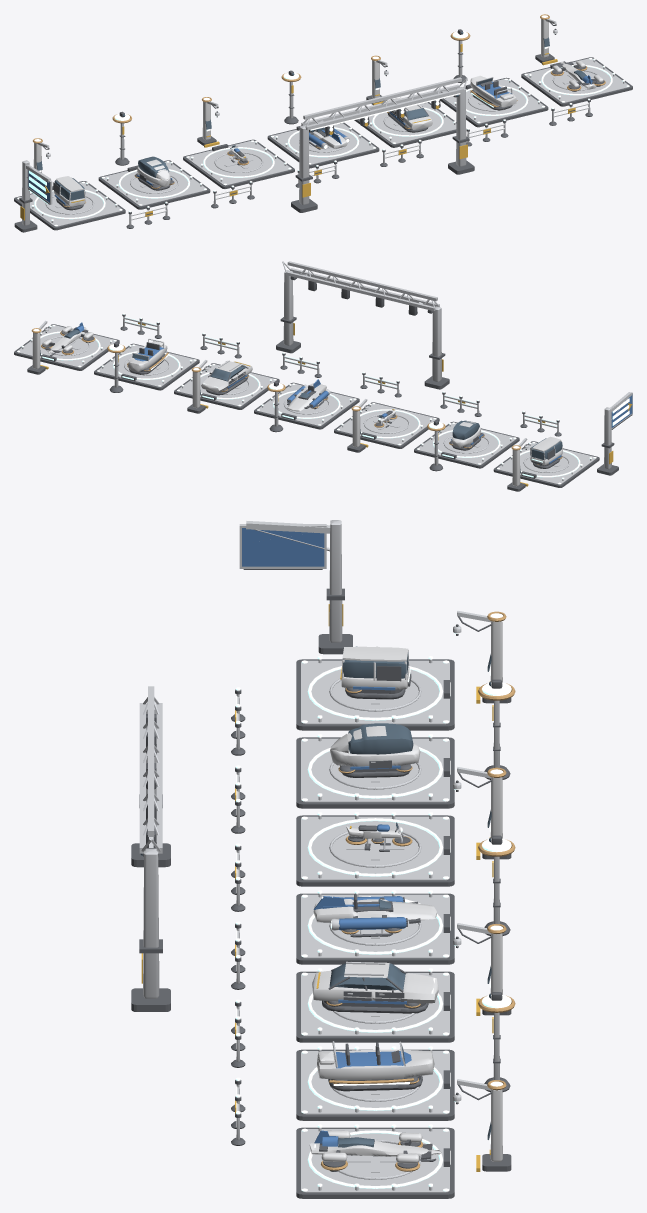
The model's file is hover-transit-and-antigrav-fleet-showroom-lineup-8b5e25d7__17131.glb.
3 renders of one model, top to bottom at view 1: azimuth 30°, elevation 25°; view 2: azimuth 150°, elevation 25°; view 3: azimuth 270°, elevation 25°, orthographic. The views are drawn at different scales.
Parts seen in each view (by area): view 1: 028-air-traffic-gantry/1, 004-landing-pad-tile/1, 002-landing-pad-tile/1, 012-landing-pad-tile/1, 000-landing-pad-tile/1, 006-landing-pad-tile/1, 010-landing-pad-tile/1, 008-landing-pad-tile/1, 028-air-traffic-gantry/0, 004-landing-pad-tile/0, 027-direction-gantry-sign/1, 012-landing-pad-tile/0 (+18 smaller); view 2: 028-air-traffic-gantry/1, 004-landing-pad-tile/1, 002-landing-pad-tile/1, 000-landing-pad-tile/1, 006-landing-pad-tile/1, 012-landing-pad-tile/1, 010-landing-pad-tile/1, 008-landing-pad-tile/1, 028-air-traffic-gantry/0, 009-family-hover-saloon/0, 027-direction-gantry-sign/1, 010-landing-pad-tile/0 (+13 smaller); view 3: 004-landing-pad-tile/1, 000-landing-pad-tile/1, 002-landing-pad-tile/1, 028-air-traffic-gantry/1, 012-landing-pad-tile/1, 006-landing-pad-tile/1, 010-landing-pad-tile/1, 008-landing-pad-tile/1, 027-direction-gantry-sign/2, 027-direction-gantry-sign/1, 009-family-hover-saloon/0, 011-open-touring-skiff/0 (+24 smaller).
Part boxes in pixels (<box>): 028-air-traffic-gantry/1: <box>299,77,467,204</box>; 004-landing-pad-tile/1: <box>186,141,291,185</box>; 002-landing-pad-tile/1: <box>101,161,207,206</box>; 012-landing-pad-tile/1: <box>524,58,629,102</box>; 000-landing-pad-tile/1: <box>17,182,122,226</box>; 006-landing-pad-tile/1: <box>271,123,376,164</box>; 010-landing-pad-tile/1: <box>443,79,544,123</box>; 008-landing-pad-tile/1: <box>359,102,456,144</box>; 028-air-traffic-gantry/0: <box>291,95,474,212</box>; 004-landing-pad-tile/0: <box>183,139,294,188</box>; 027-direction-gantry-sign/1: <box>22,160,52,225</box>; 012-landing-pad-tile/0: <box>521,57,632,106</box>; 028-air-traffic-gantry/1: <box>282,261,441,381</box>; 004-landing-pad-tile/1: <box>337,403,436,445</box>; 002-landing-pad-tile/1: <box>416,423,516,464</box>; 000-landing-pad-tile/1: <box>497,442,596,484</box>; 006-landing-pad-tile/1: <box>257,384,356,425</box>; 012-landing-pad-tile/1: <box>17,325,116,367</box>; 010-landing-pad-tile/1: <box>97,345,196,386</box>; 008-landing-pad-tile/1: <box>177,364,276,406</box>; 028-air-traffic-gantry/0: <box>276,276,449,389</box>; 009-family-hover-saloon/0: <box>201,360,252,392</box>; 027-direction-gantry-sign/1: <box>604,392,632,469</box>; 010-landing-pad-tile/0: <box>94,343,199,390</box>; 004-landing-pad-tile/1: <box>301,815,449,880</box>; 000-landing-pad-tile/1: <box>301,659,449,724</box>; 002-landing-pad-tile/1: <box>301,737,449,802</box>; 028-air-traffic-gantry/1: <box>139,686,162,998</box>; 012-landing-pad-tile/1: <box>301,1127,449,1192</box>; 006-landing-pad-tile/1: <box>301,893,449,958</box>; 010-landing-pad-tile/1: <box>301,1049,449,1114</box>; 008-landing-pad-tile/1: <box>301,971,449,1036</box>; 027-direction-gantry-sign/2: <box>242,528,324,566</box>; 027-direction-gantry-sign/1: <box>239,520,342,642</box>; 009-family-hover-saloon/0: <box>312,961,438,1003</box>; 011-open-touring-skiff/0: <box>317,1049,434,1079</box>.
Size of the model in its own units: 50.15 by 7.22 by 14.56.
